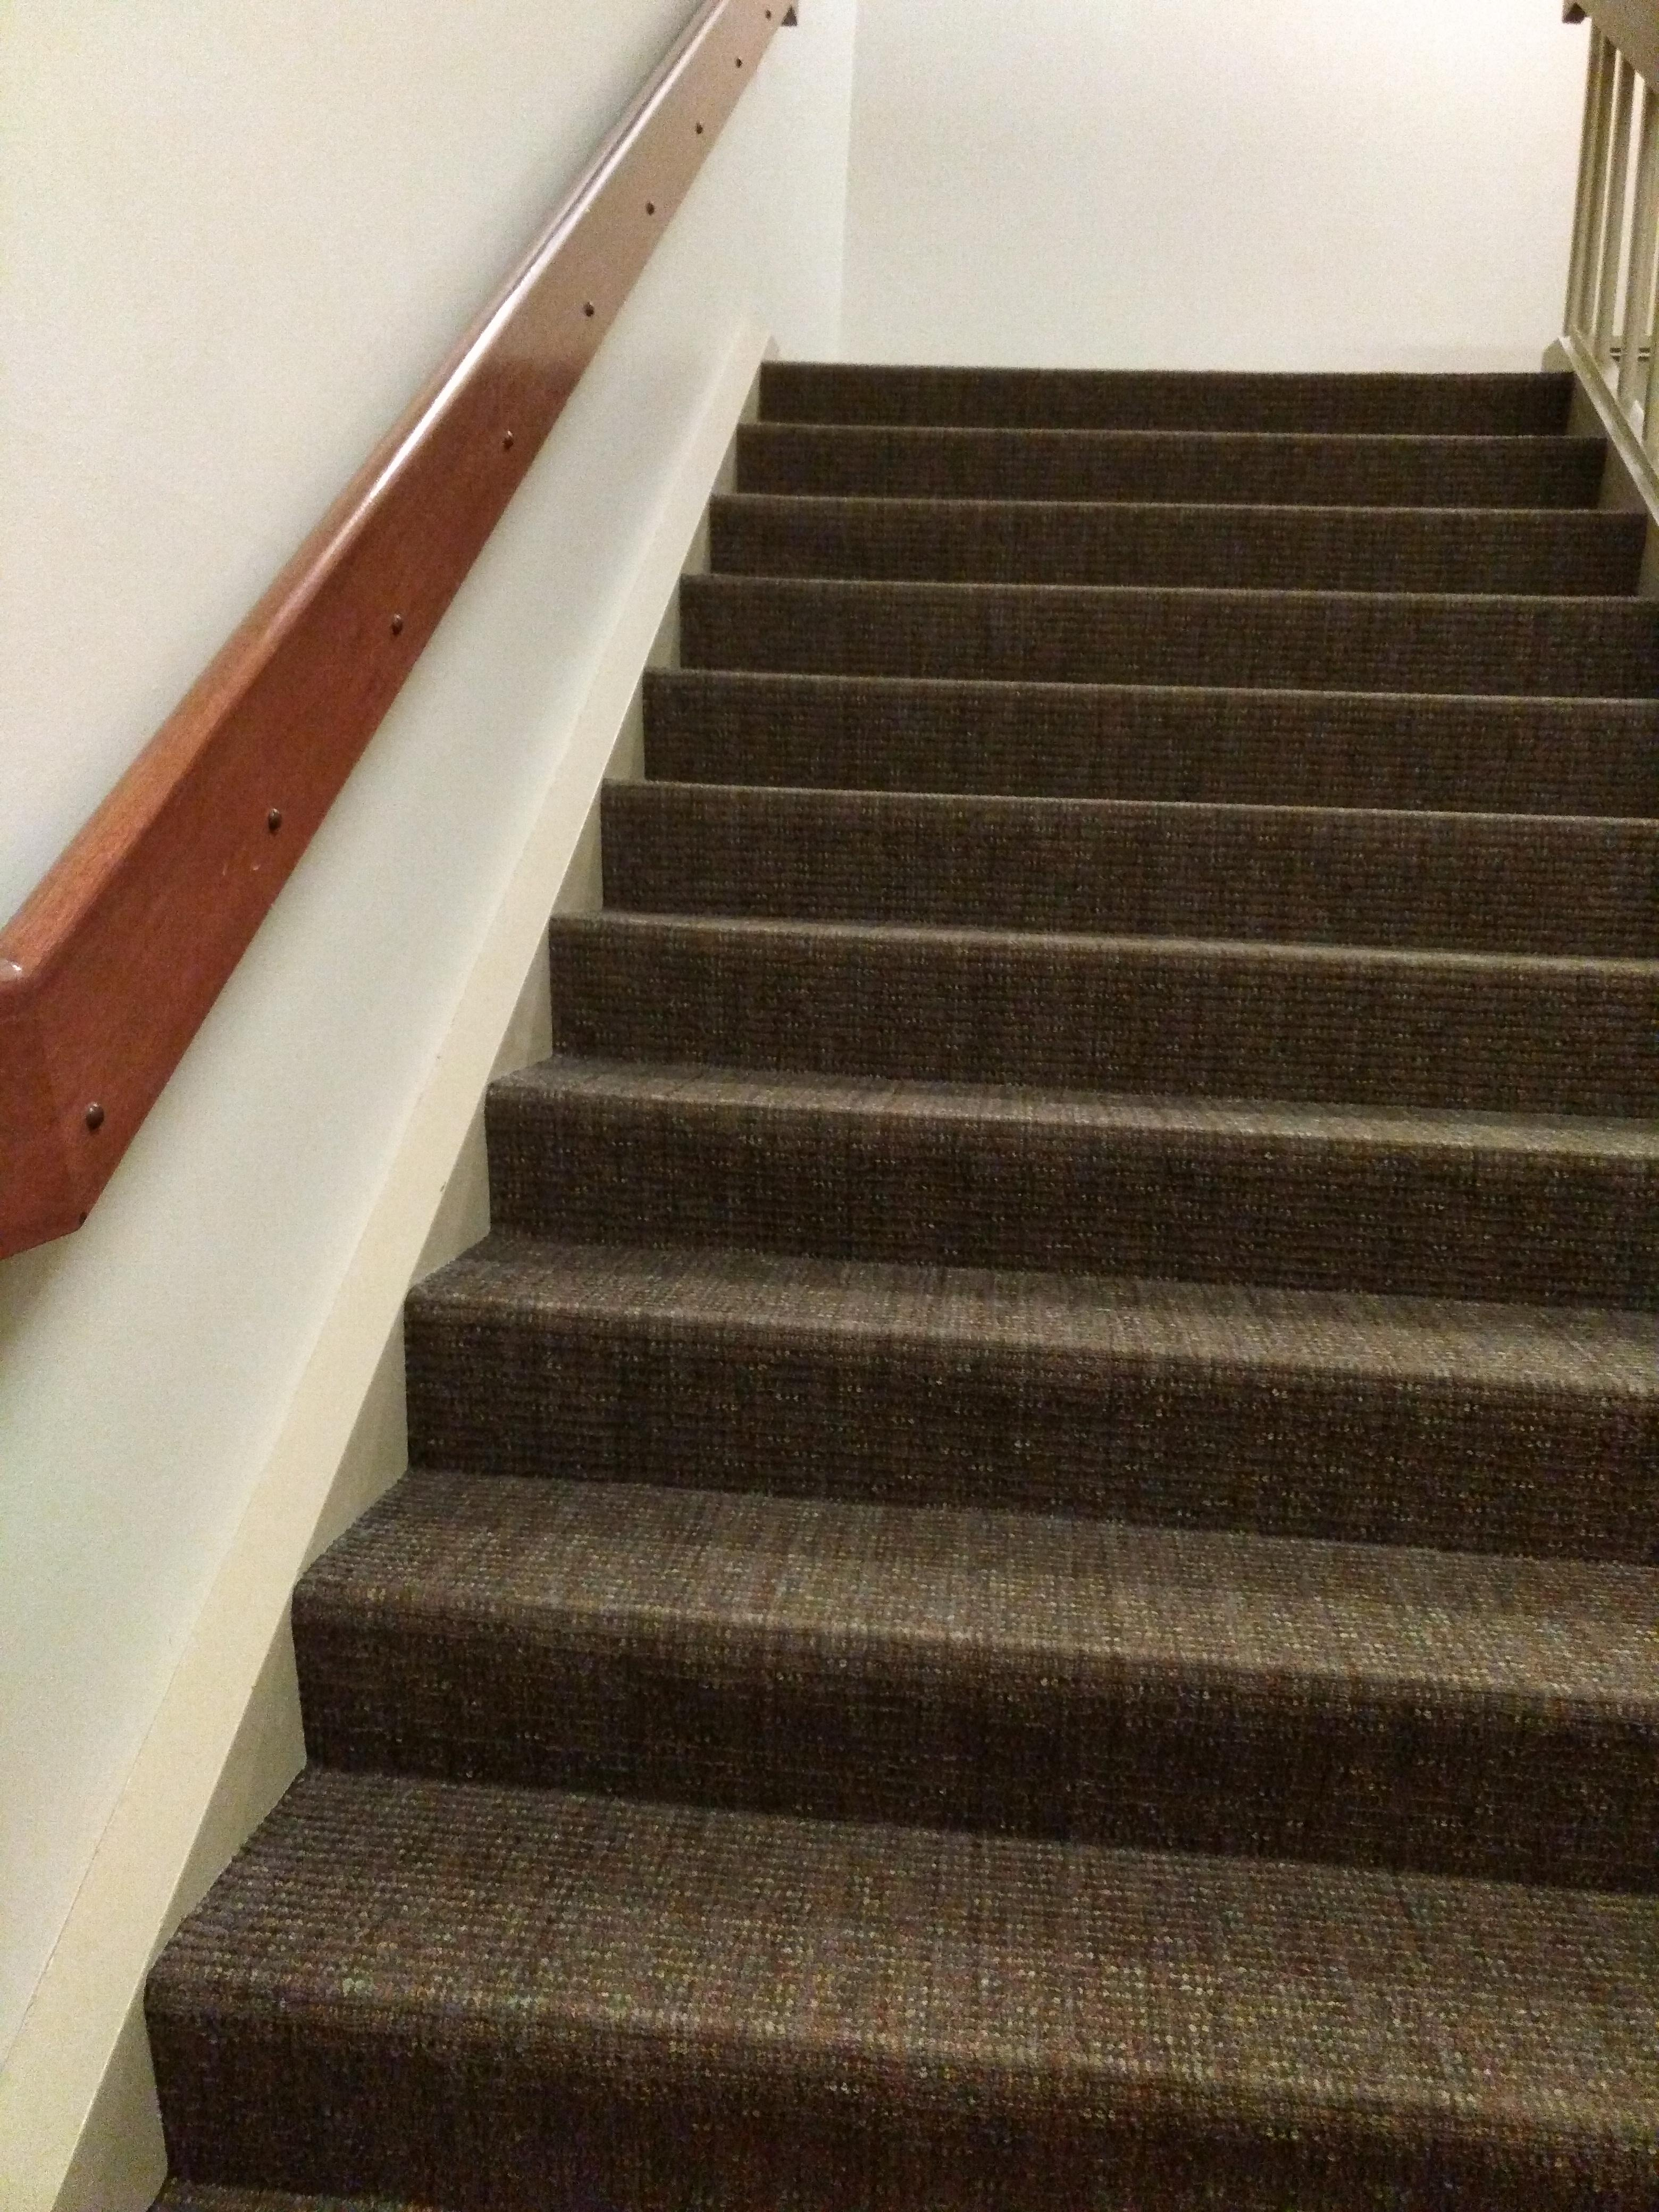stairs_up: (174, 336, 1659, 2182)
